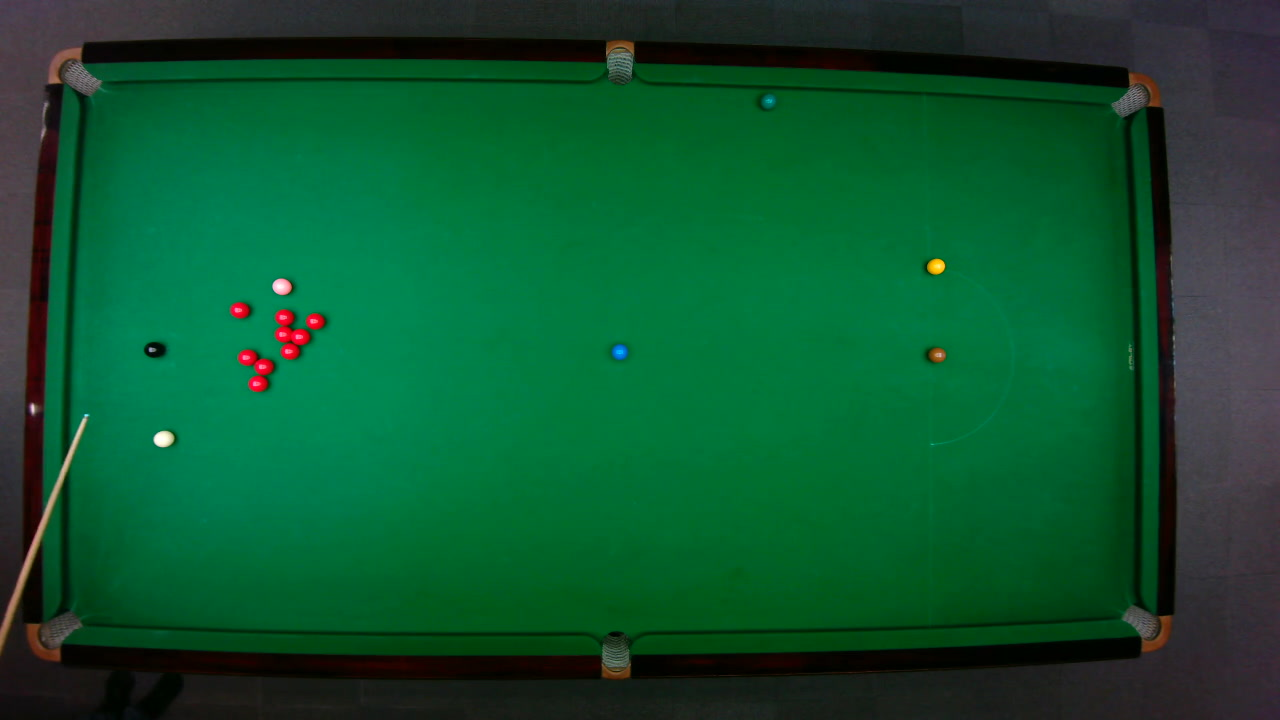bag: (25, 609, 84, 661), (45, 46, 102, 96), (1119, 603, 1171, 652), (1108, 71, 1161, 117), (600, 629, 629, 680), (605, 38, 633, 85)
black: (142, 340, 164, 357)
blue: (610, 342, 628, 360)
brown: (926, 346, 946, 362)
cue: (0, 411, 92, 640)
green: (759, 92, 776, 110)
pink: (270, 276, 292, 295)
red: (287, 326, 311, 345), (236, 347, 258, 366), (252, 356, 274, 375), (273, 307, 294, 326), (228, 300, 250, 318), (304, 311, 324, 330), (246, 375, 268, 392), (279, 342, 300, 359), (273, 325, 293, 342)
white: (151, 428, 176, 447)
yellow: (925, 257, 946, 274)
zone: (928, 268, 1013, 445)
